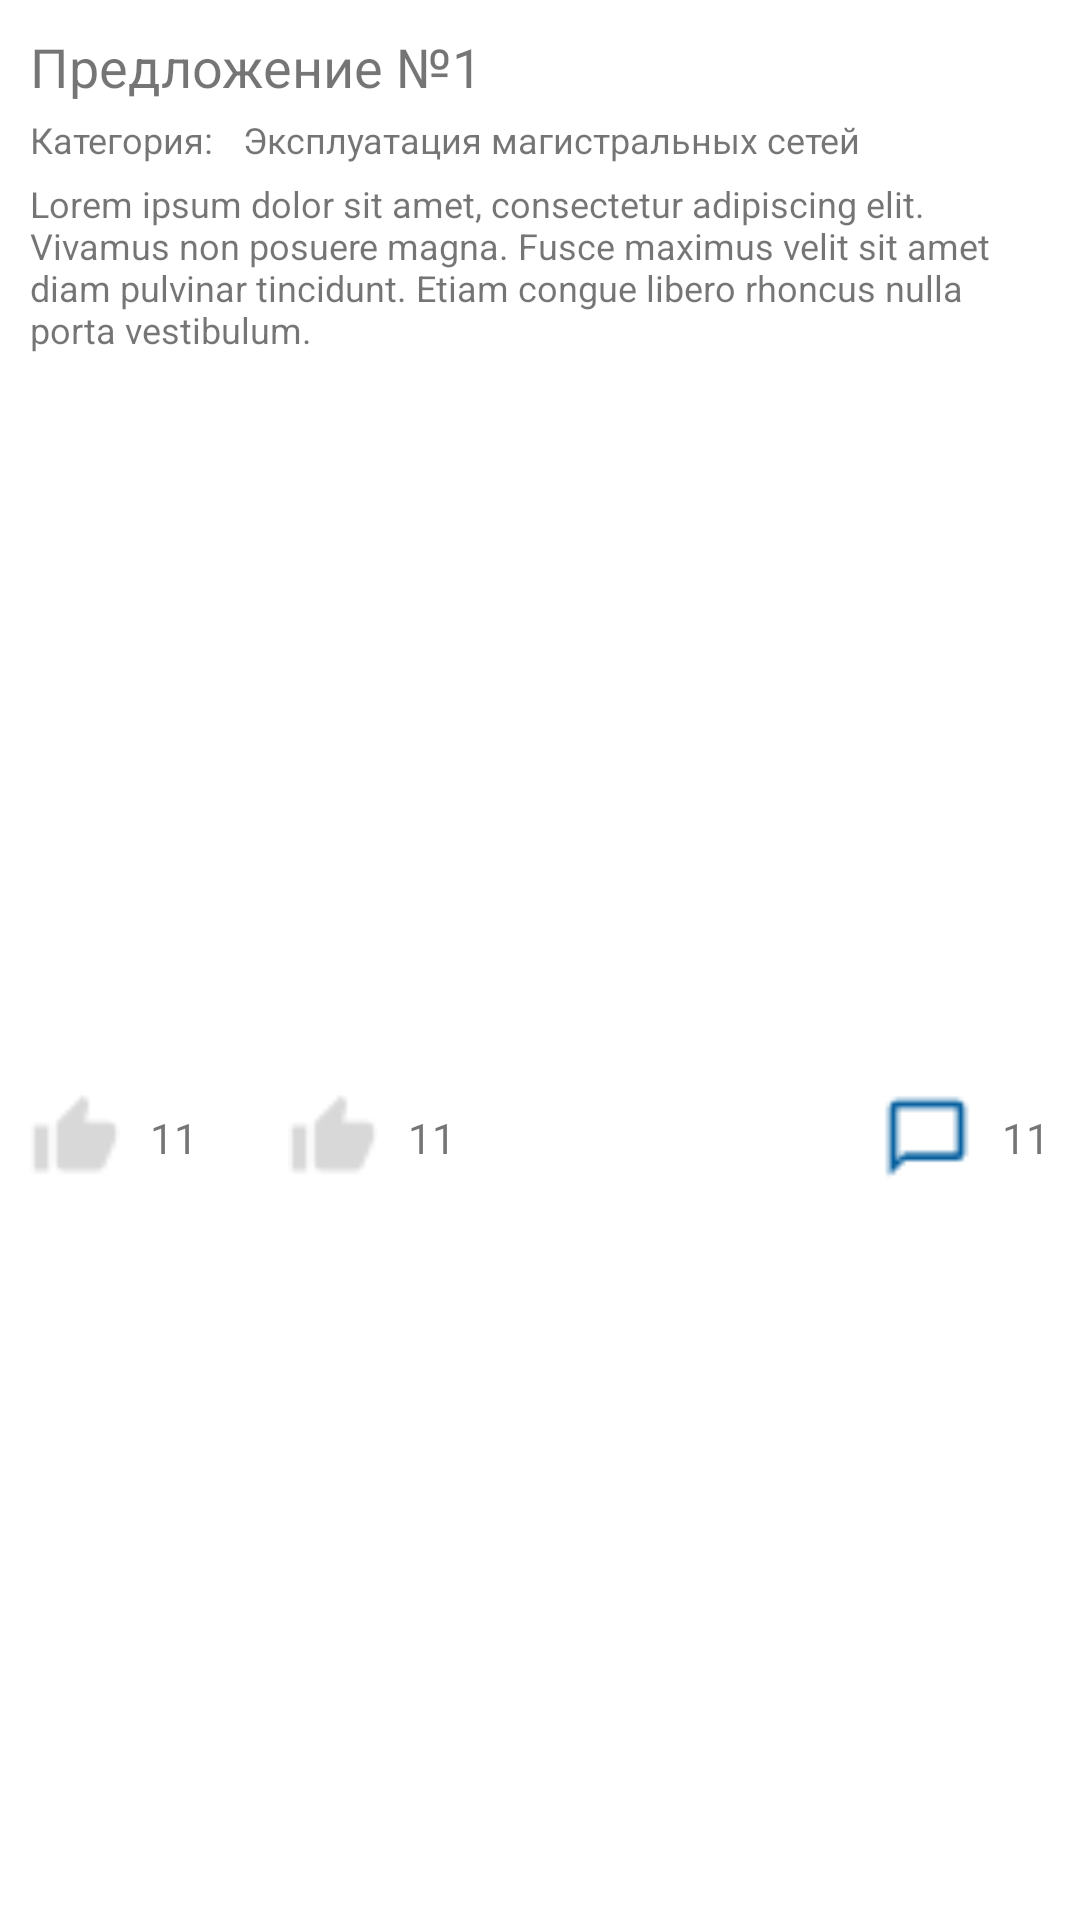

Icon bounding boxes for this 1080 x 1920 phone screenshot, format (x1=x1, y1=y1, x2=x2, y2=y2):
chat bubble: (x1=886, y1=1097, x2=968, y2=1176)
thumb up: (x1=35, y1=1098, x2=115, y2=1170), (x1=293, y1=1098, x2=373, y2=1170)
